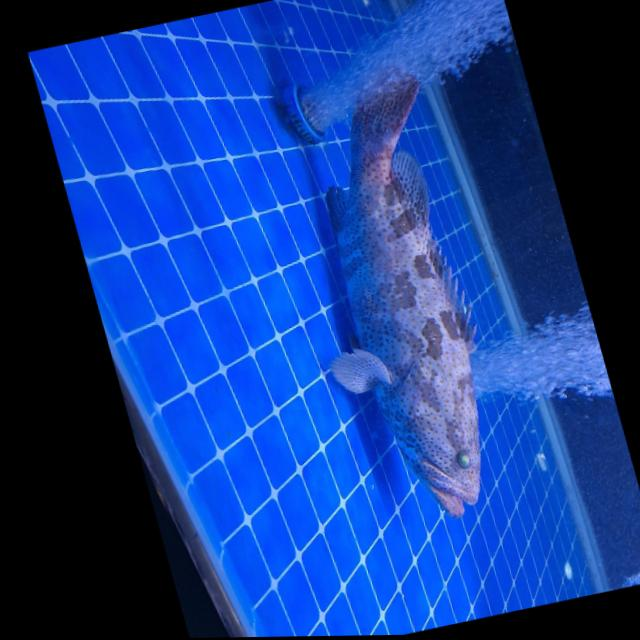Groupers: (251, 61, 539, 538)
